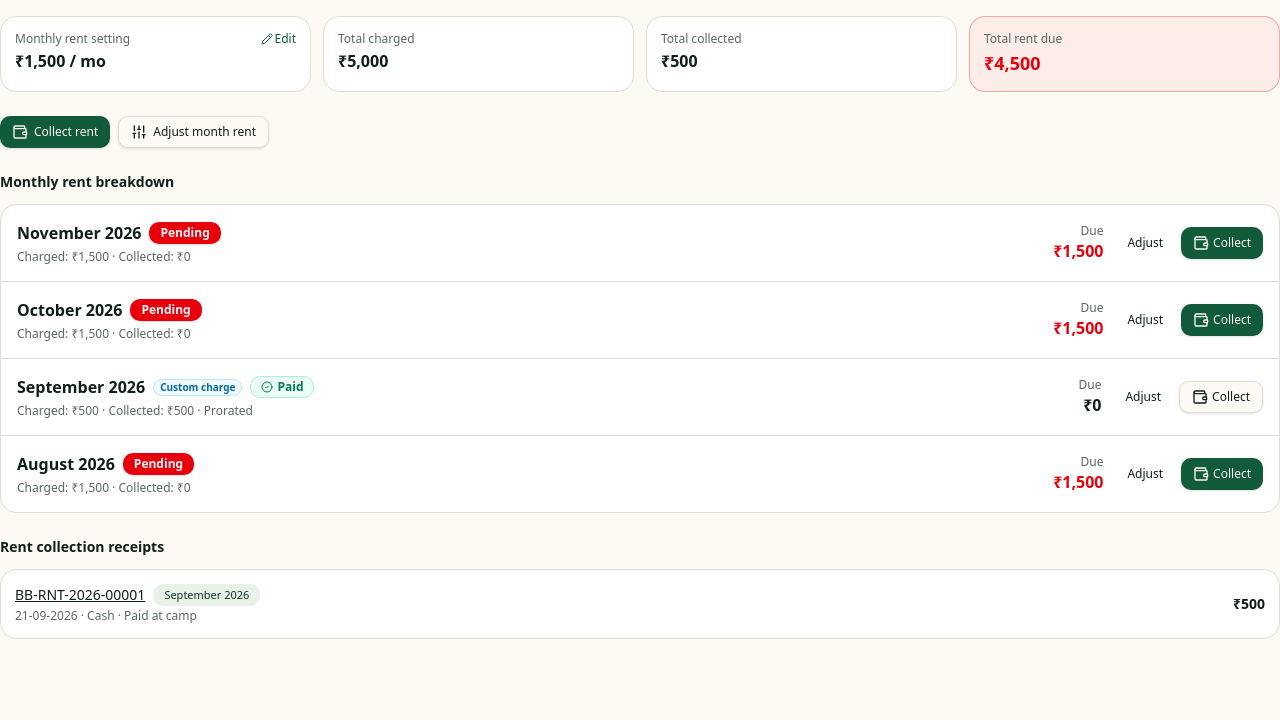
Test: WorkerRent component UI › renders with charges, payments and opens collect and adjust dialogs
The width and height of the screenshot is (1280, 720).
Expected: the heading "Monthly rent breakdown" is shown, x1=0 y1=172 x2=174 y2=191
Expected: the text "Custom charge" is shown, x1=153 y1=378 x2=242 y2=396
Note: Click "Adjust month rent" to open dialog
Click the button "Adjust month rent" at (194, 132), box x1=118 y1=116 x2=269 y2=148
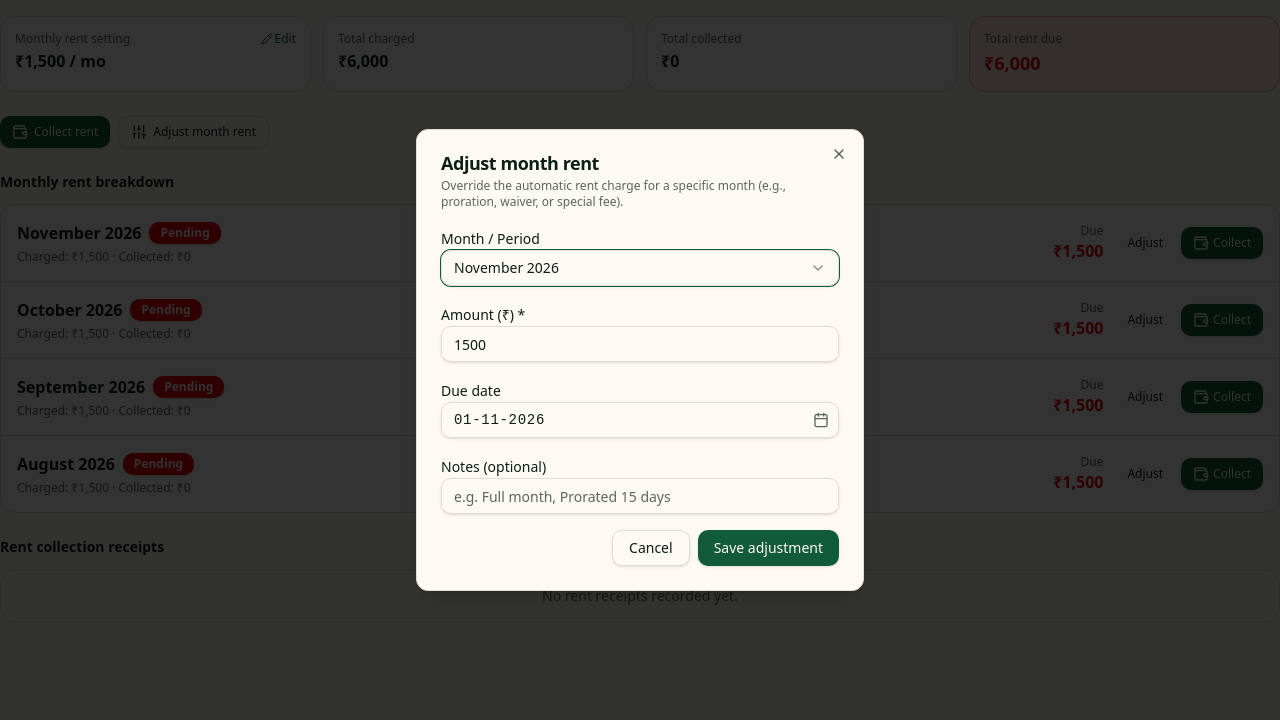
Result: the text "Override the automatic rent charge for a specific month (e.g., proration, waiver, or special fee)." is shown at x1=441 y1=177 x2=786 y2=210
